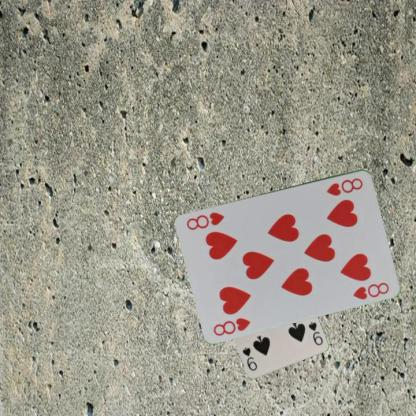8h: (211, 314, 252, 337), (324, 175, 365, 197)
9s: (306, 319, 324, 347)
